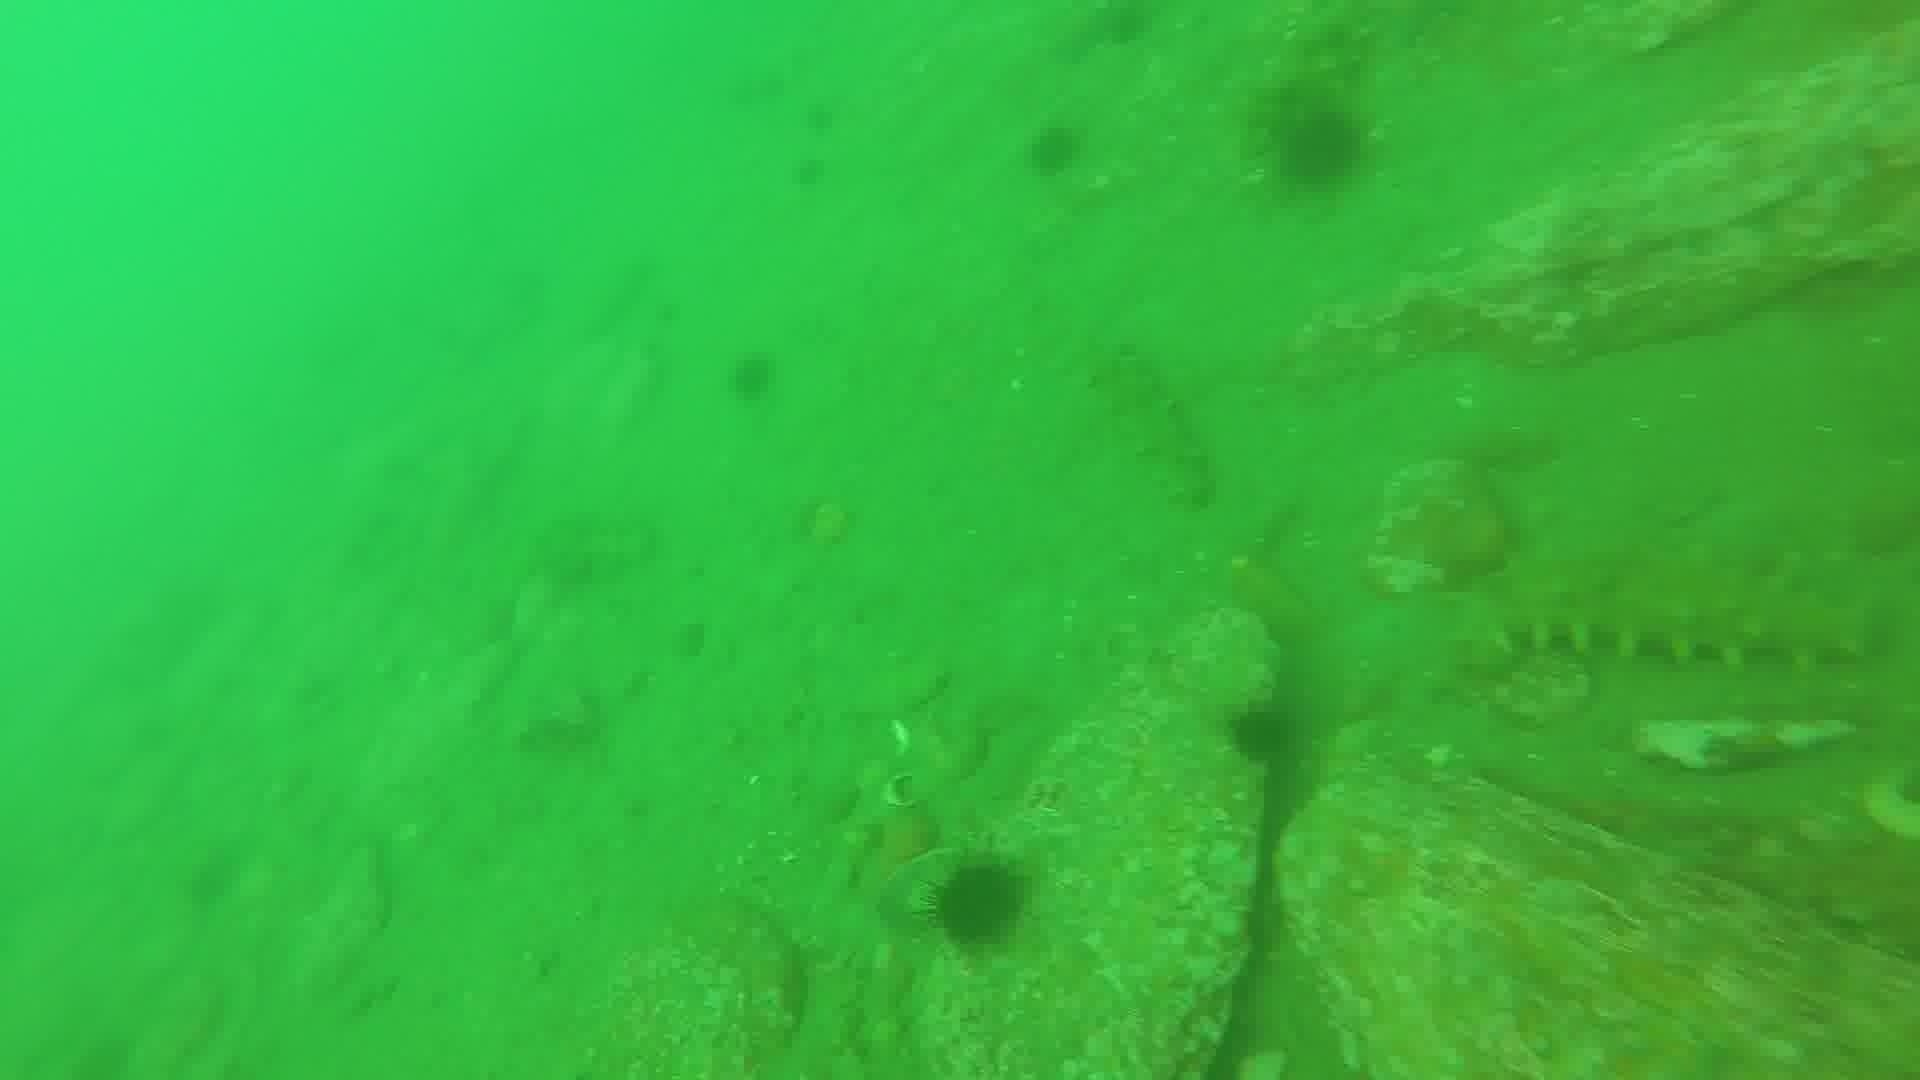echinus: (924, 853, 1034, 953), (1269, 102, 1370, 194), (1222, 698, 1304, 770), (1021, 117, 1091, 181), (723, 347, 785, 407)
holothurian: (1452, 542, 1882, 680), (1087, 336, 1220, 510)
